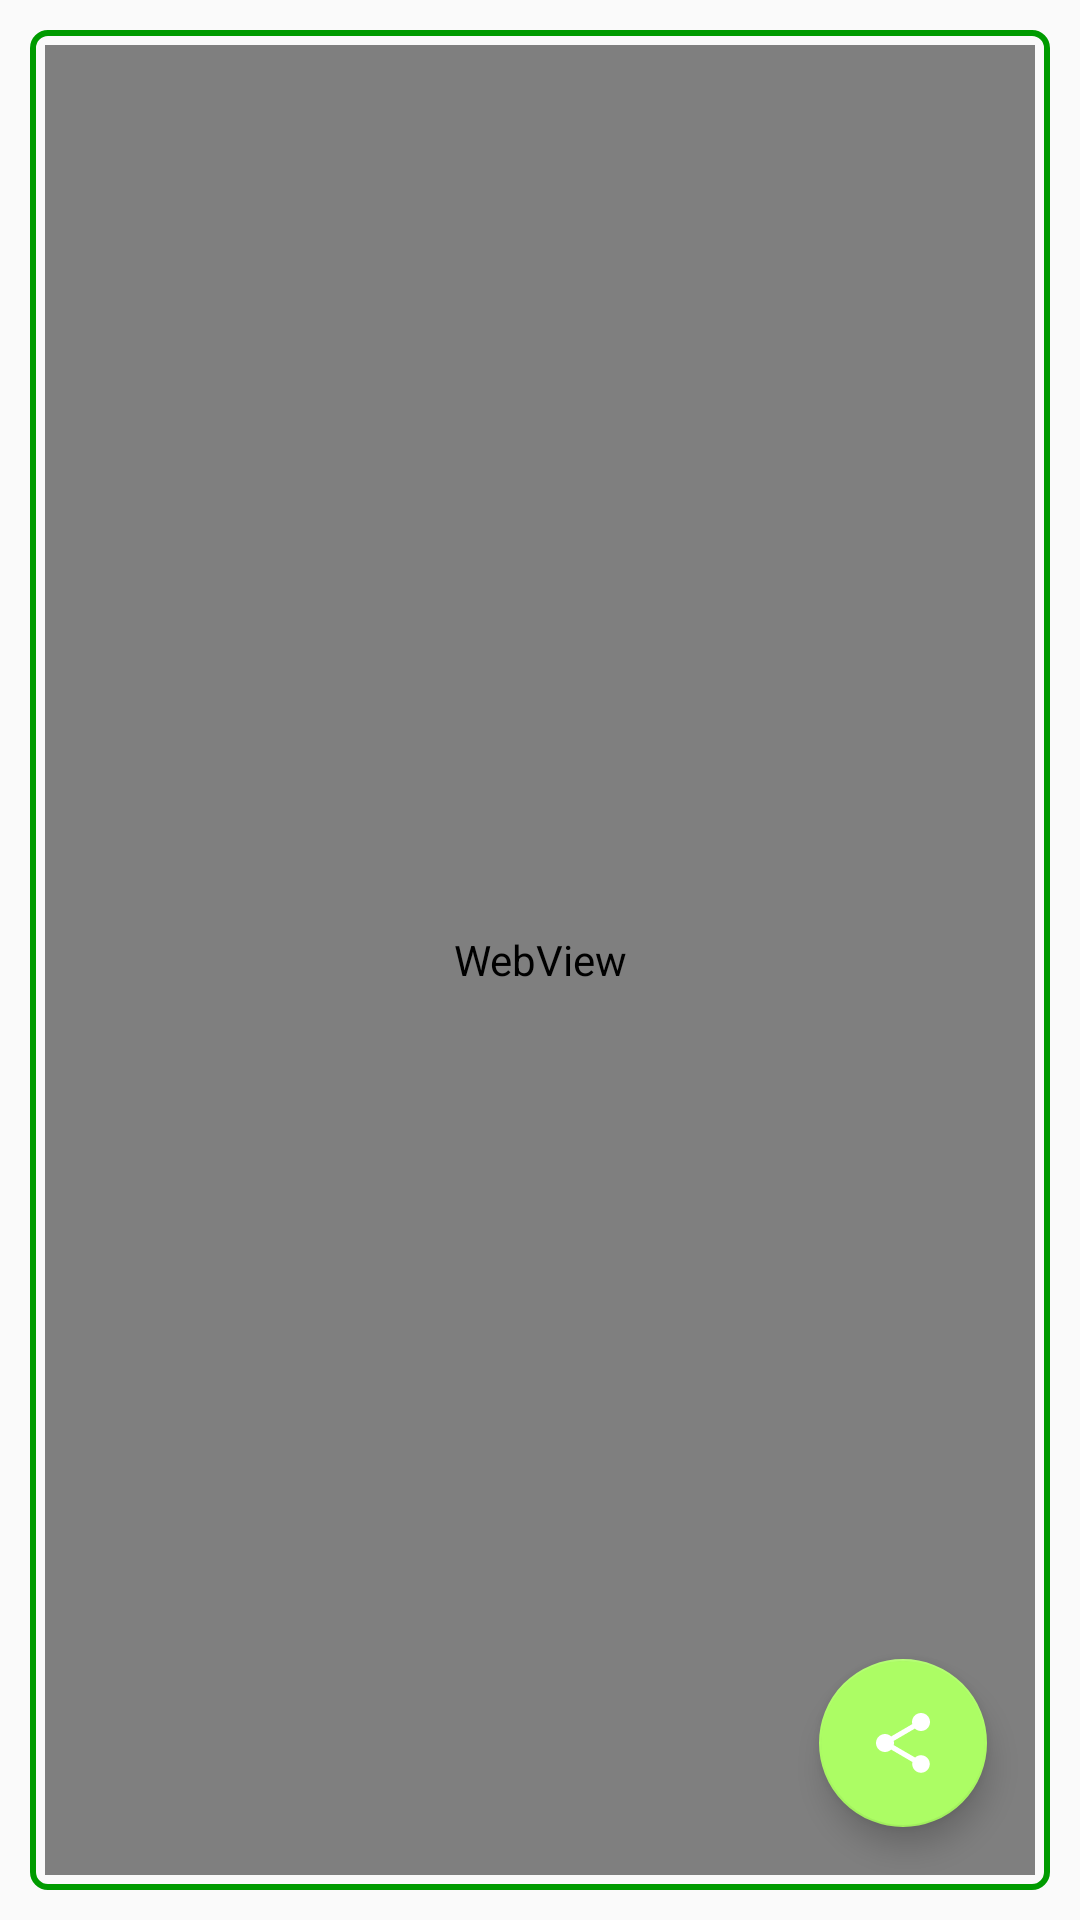

Icon bounding boxes for this 1080px×1920px phone screenshot, format [x1,y1,x2,y2]:
share: [819,1659,987,1827]
